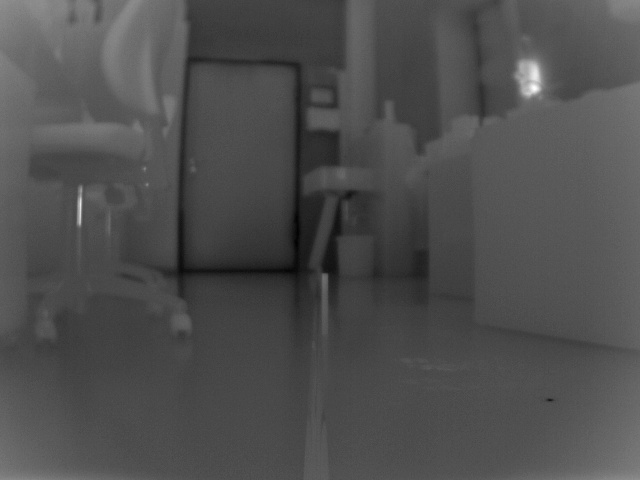aluminum profile: (322, 272, 329, 338)
